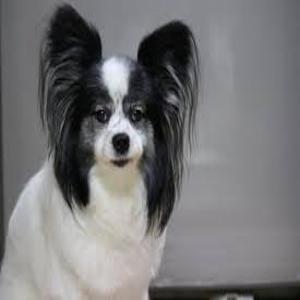yell: (0, 3, 199, 299)
